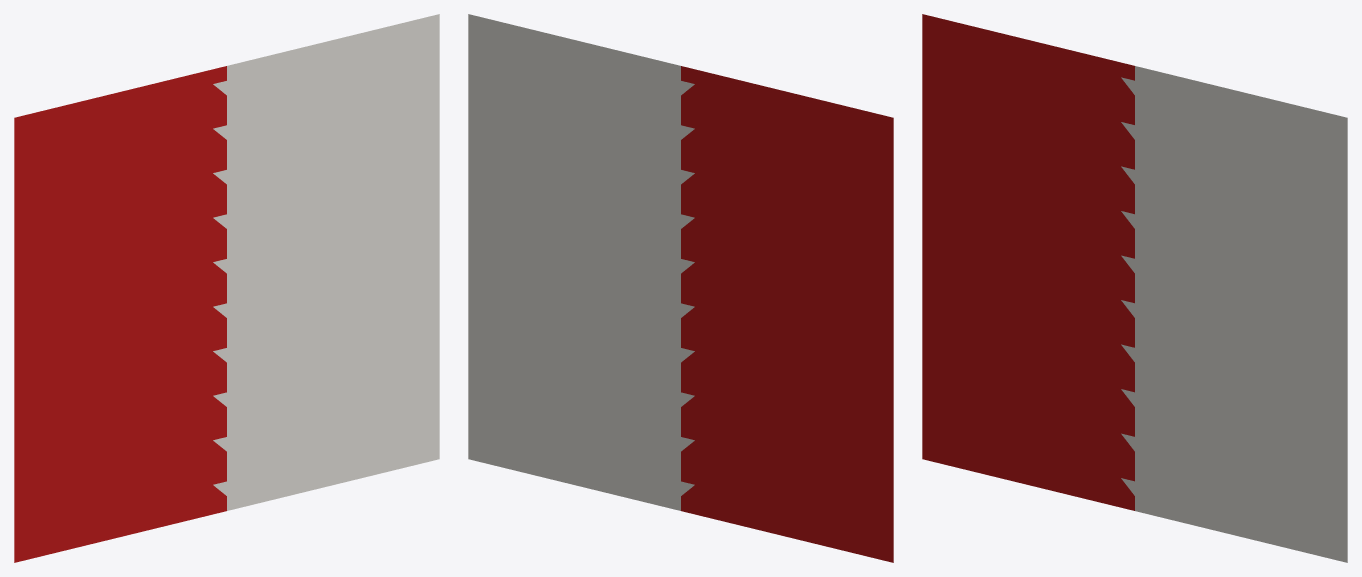
The model's file is gridbig.obj.
3 views of the same model, side by side, from view 1: azimuth 30°, elevation 25°; view 2: azimuth 150°, elevation 25°; view 3: azimuth 330°, elevation 25° (orthographic).
Bounding box in the file's own units: 30 × 30 × 0.
